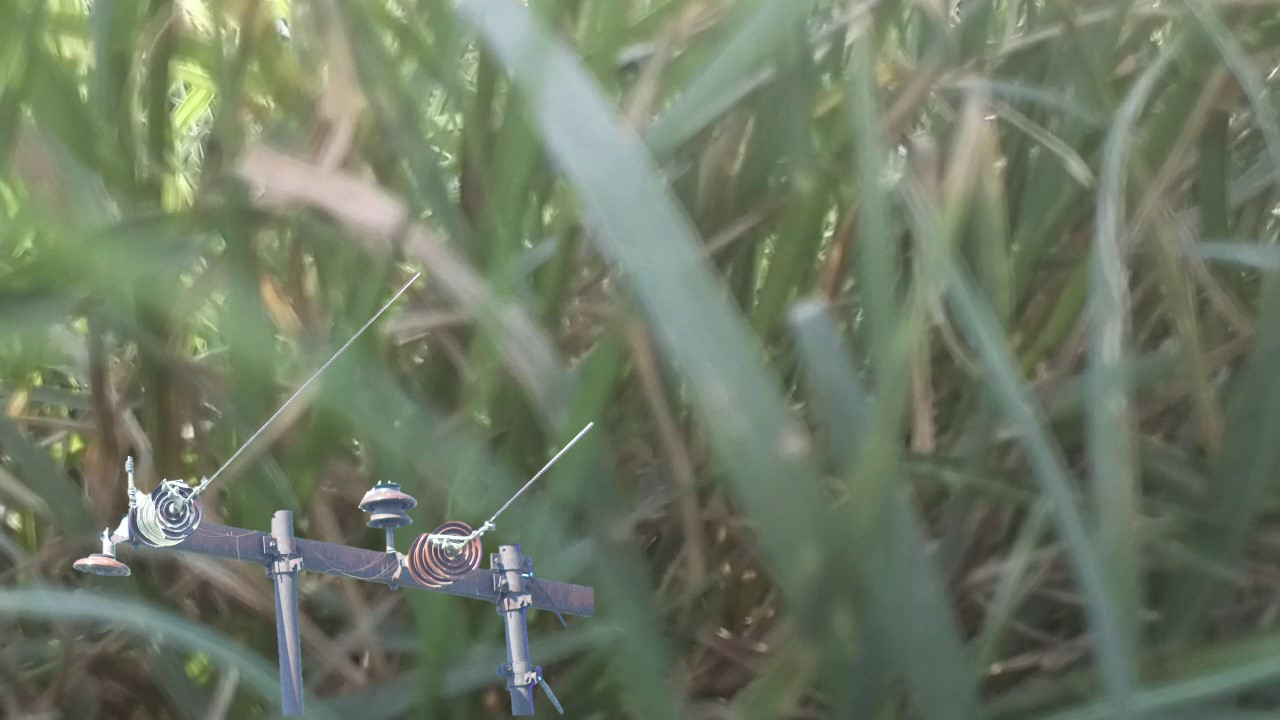defect_disc: (150, 476, 206, 541)
insulator_disc: (419, 514, 486, 581), (70, 540, 133, 583)
